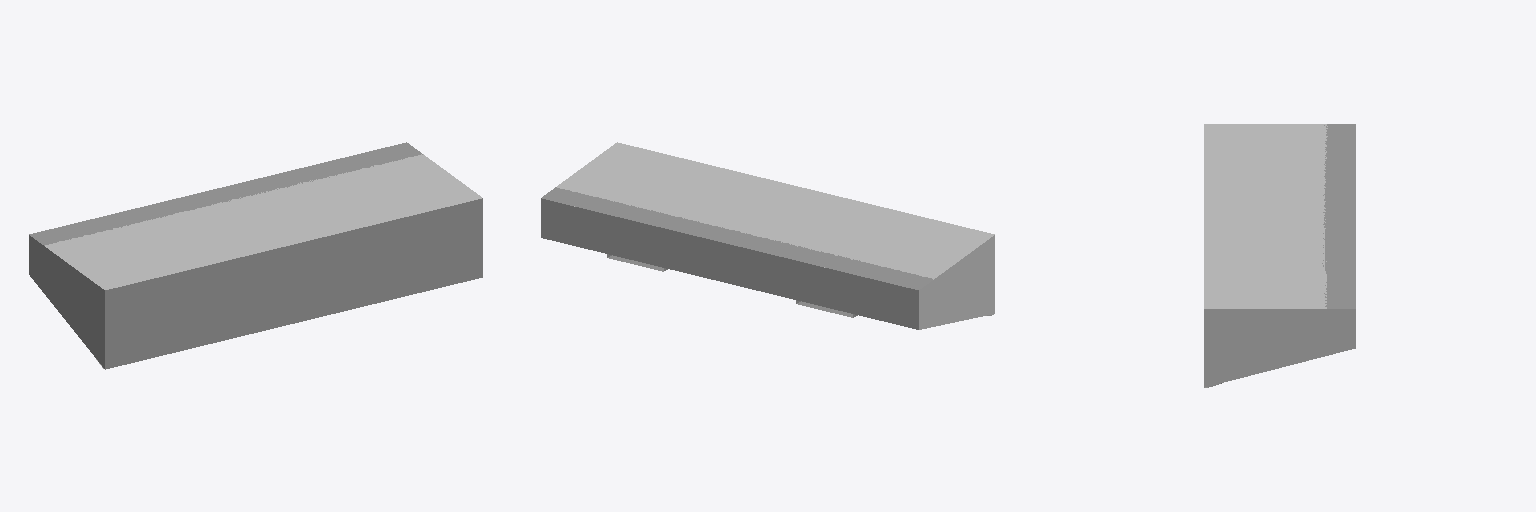
The model's file is aucman_roof_trim_2m.obj.
3 renders of one model, left to right at view 1: azimuth 30°, elevation 25°; view 2: azimuth 150°, elevation 25°; view 3: azimuth 270°, elevation 25°, orthographic.
Visible parts, largest first — view 1: g_g, c_c; view 2: c_c, g_g; view 3: c_c, g_g.
Boxes of the visible parts, box(x1,y1,x2,y2) form: g_g: box(29, 142, 482, 369); c_c: box(29, 154, 481, 368); c_c: box(541, 142, 994, 329); g_g: box(542, 187, 993, 317); c_c: box(1204, 124, 1355, 387); g_g: box(1205, 124, 1355, 387).
Bounding box in the file's own units: 200 × 40 × 70.